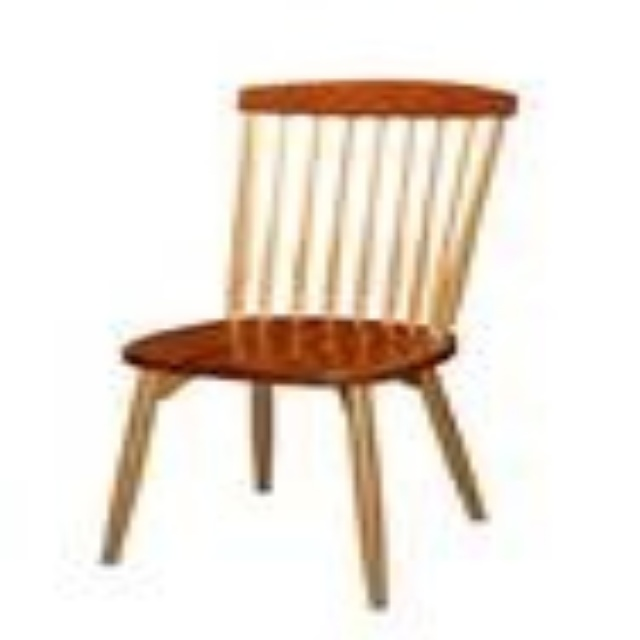obstacle: (102, 80, 511, 605)
